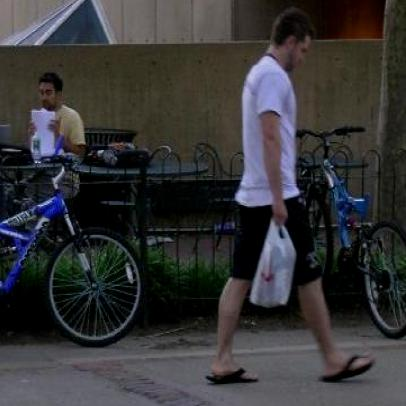ped: (211, 9, 377, 382)
